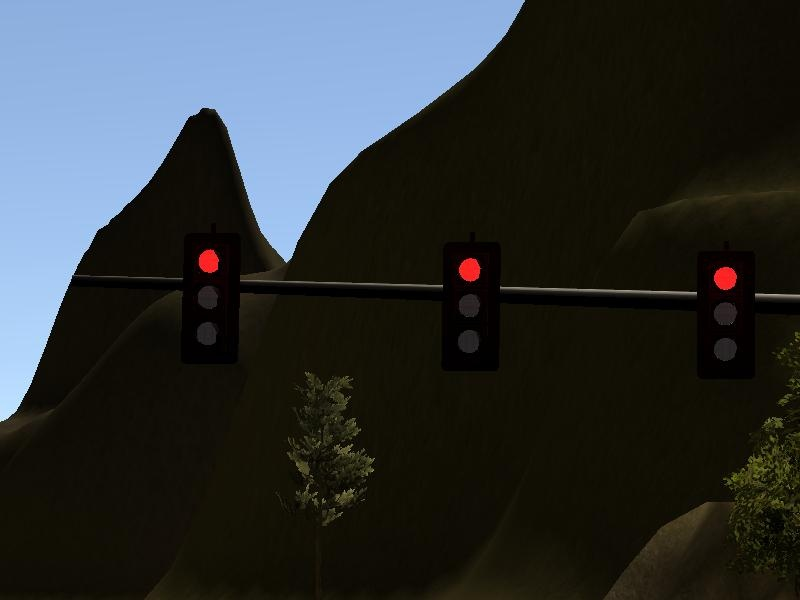red: (696, 252, 759, 383), (443, 243, 504, 374), (181, 233, 241, 366)
